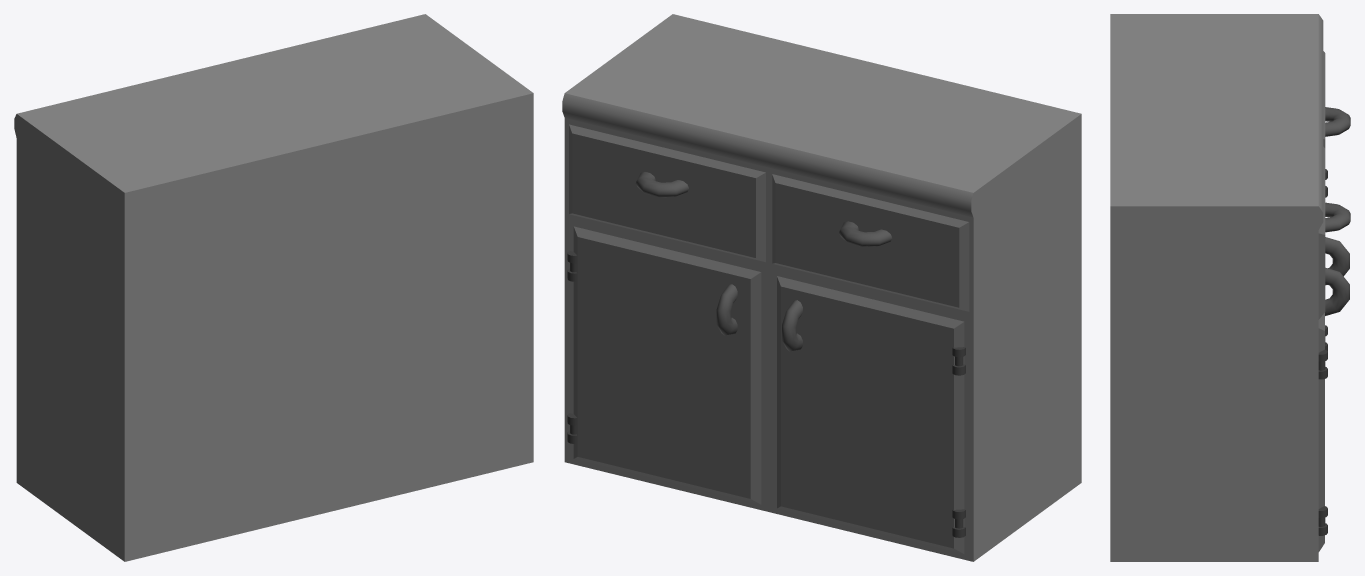
File: Cupboard#2Model.fbx
3 renders of one model, left to right at view 1: azimuth 30°, elevation 25°; view 2: azimuth 150°, elevation 25°; view 3: azimuth 270°, elevation 25°, orthographic. The views are drawn at different scales.
Parts seen in each view (by area): view 1: Cupboard#2Model; view 2: Cupboard#2Model; view 3: Cupboard#2Model.
Boxes of the visible parts, x1,y1,x2,y2 form: Cupboard#2Model: (14, 14, 533, 561); Cupboard#2Model: (562, 14, 1081, 561); Cupboard#2Model: (1110, 14, 1350, 561).
Size of the model in its own units: 132 by 114 by 69.62.
